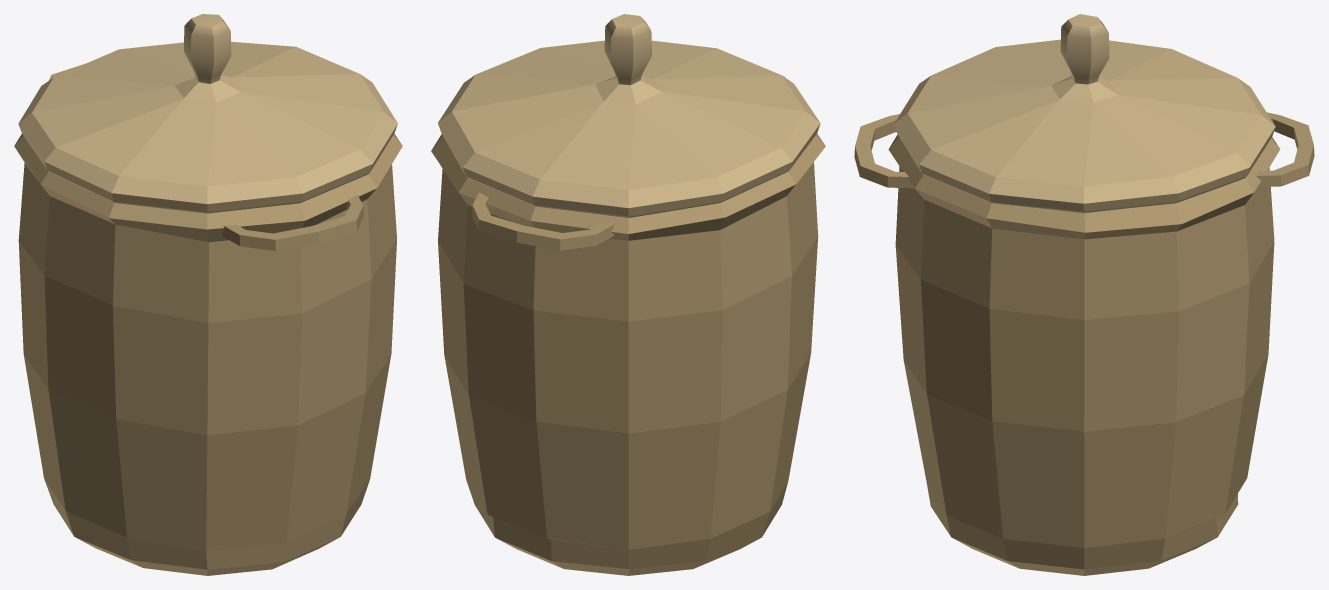
File: SM_Prop_Basket_02.fbx
3 views of the same model, side by side, from view 1: azimuth 30°, elevation 25°; view 2: azimuth 150°, elevation 25°; view 3: azimuth 270°, elevation 25° (orthographic).
Parts seen in each view (by area): view 1: SM_Prop_Basket_02; view 2: SM_Prop_Basket_02; view 3: SM_Prop_Basket_02.
Boxes of the visible parts, x1=… form: SM_Prop_Basket_02: x1=14, y1=14, x2=402, y2=575; SM_Prop_Basket_02: x1=431, y1=14, x2=825, y2=575; SM_Prop_Basket_02: x1=854, y1=14, x2=1314, y2=575.
Size of the model in its own units: 91.69 by 130 by 108.
